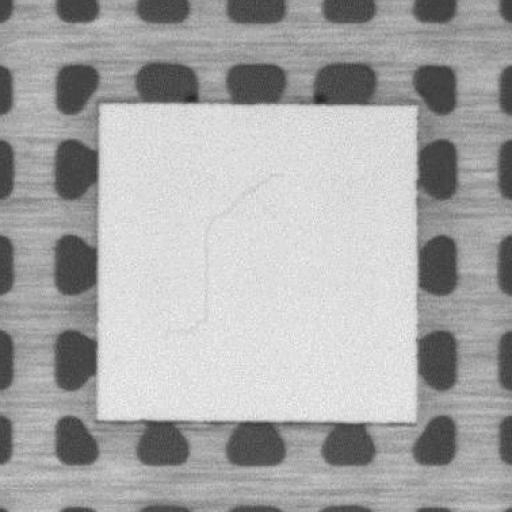DIE_CRACK: (173, 172, 283, 331)
